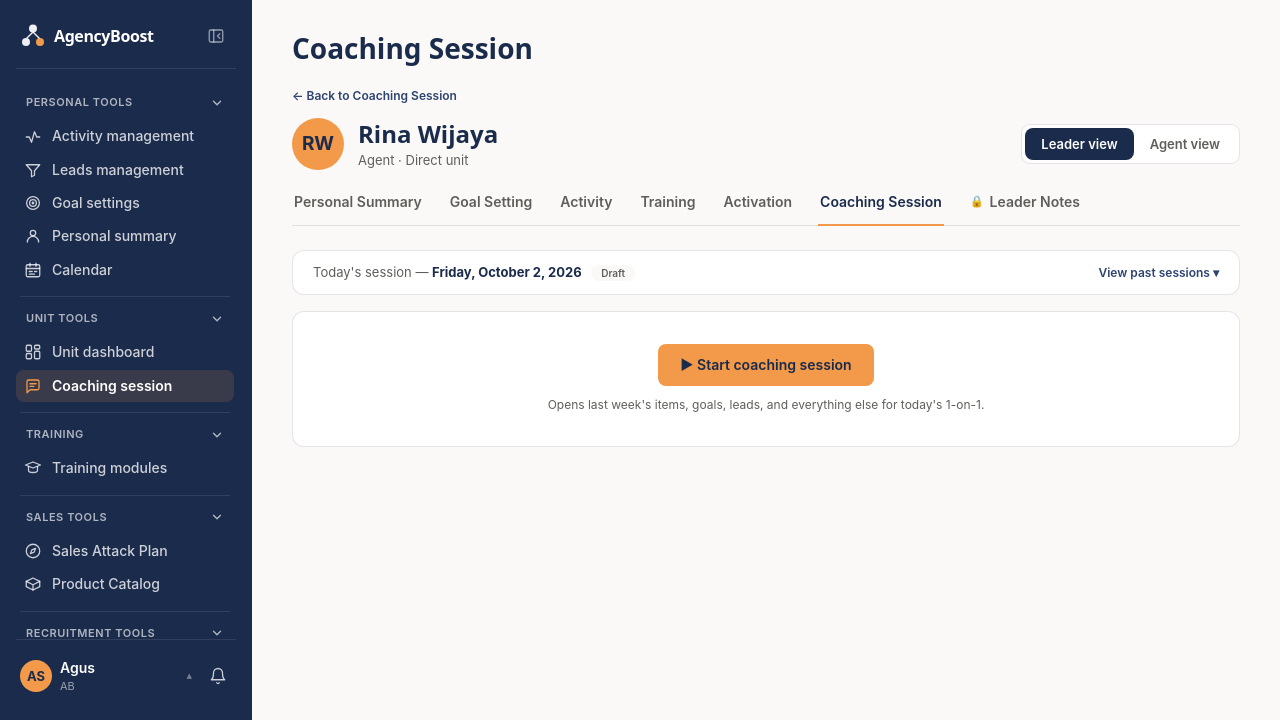
Test: the session workspace (P11-T8) › the header and the start › P11-T8 AC-1 lists past sessions behind View past sessions ▾, each a row that opens its archive
Expected: the link "Sep 24, 2026" is not shown
Click the button "View past sessions ▾". click: x=1159, y=273
box: [1098,264,1219,281]
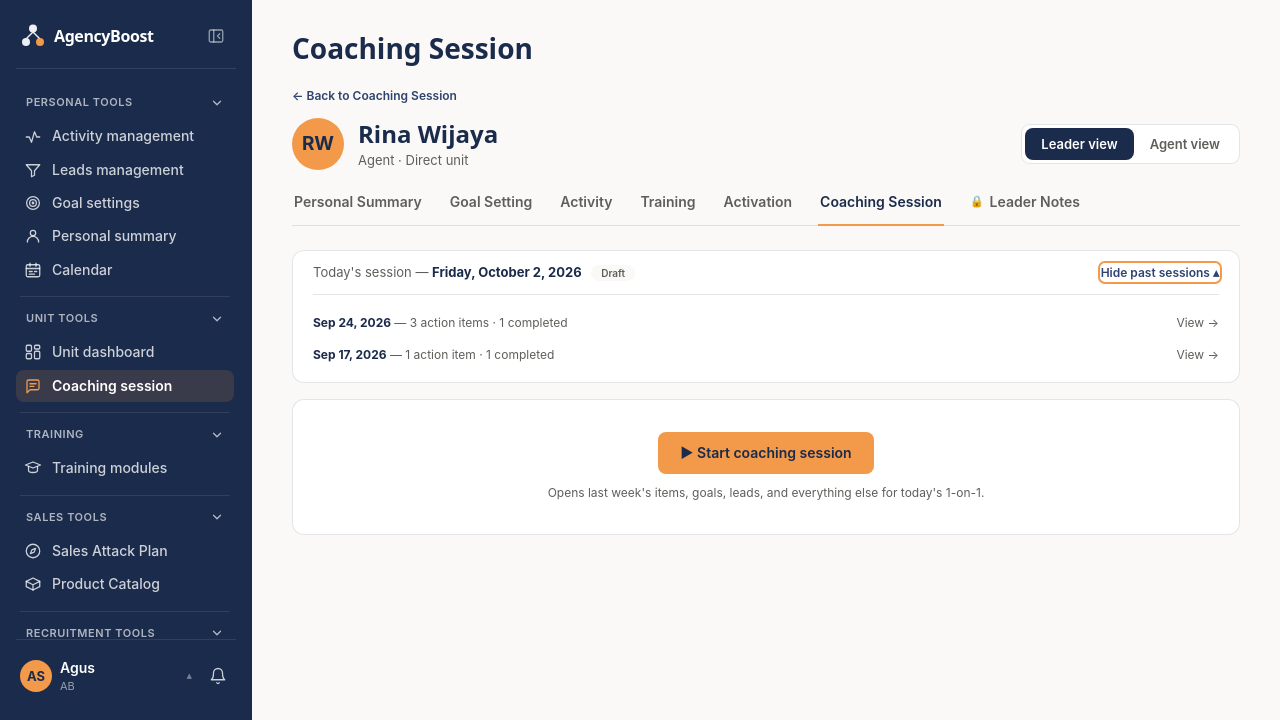
Expected: the button named "View past sessions" is expanded
Expected: the button named "View past sessions" reads "Hide past sessions ▴"
Click the button named "View past sessions". click: x=1160, y=273
box: [1101,264,1219,281]
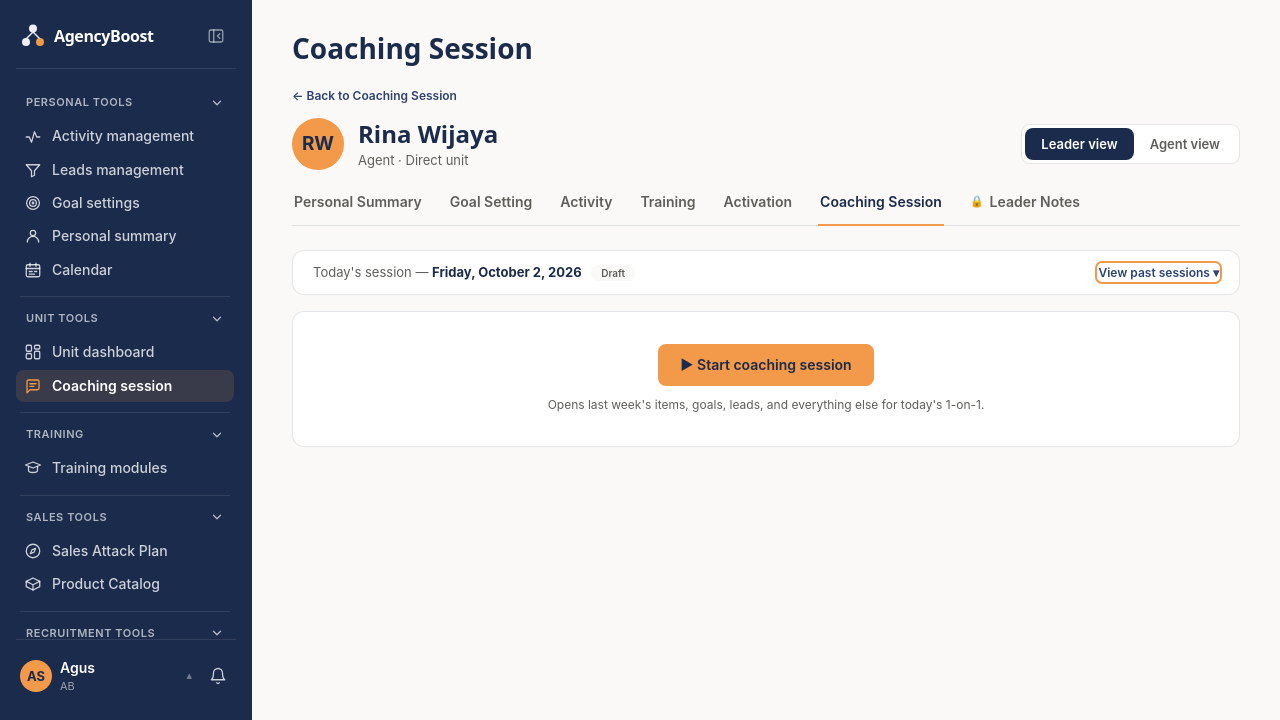
Expected: the link "Sep 24, 2026" is gone
